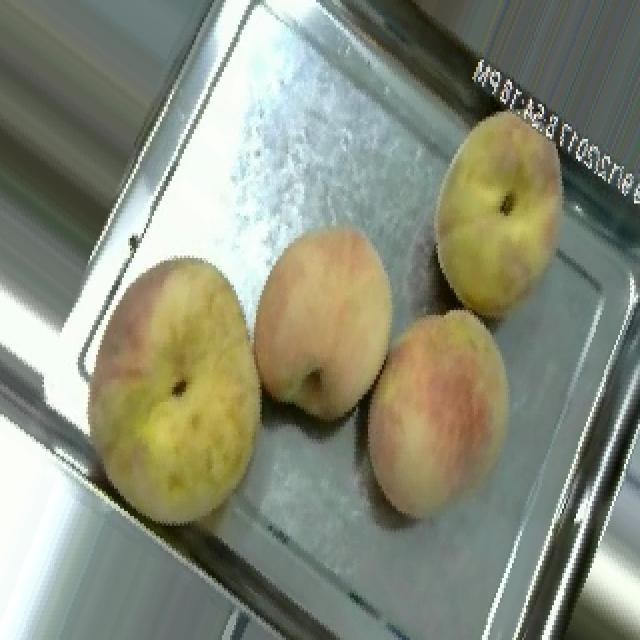Fruit: (46, 226, 304, 553), (328, 286, 542, 544), (400, 79, 598, 340), (230, 198, 422, 449)
